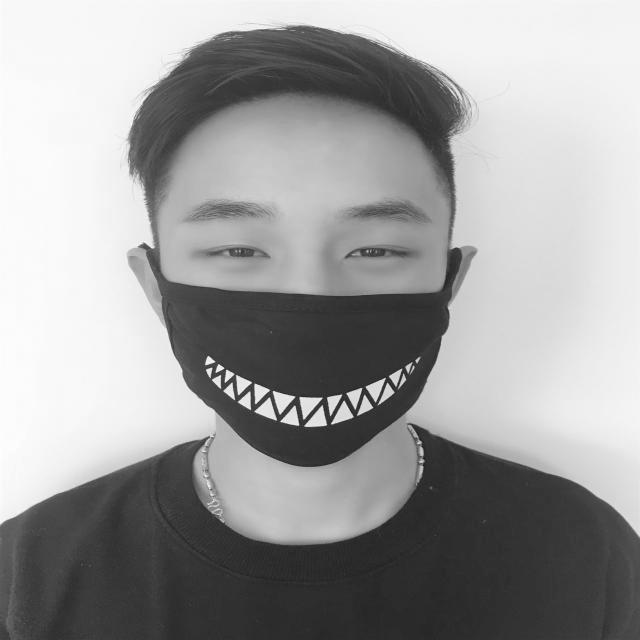fake: (155, 279, 456, 472)
real: (158, 90, 451, 473)
